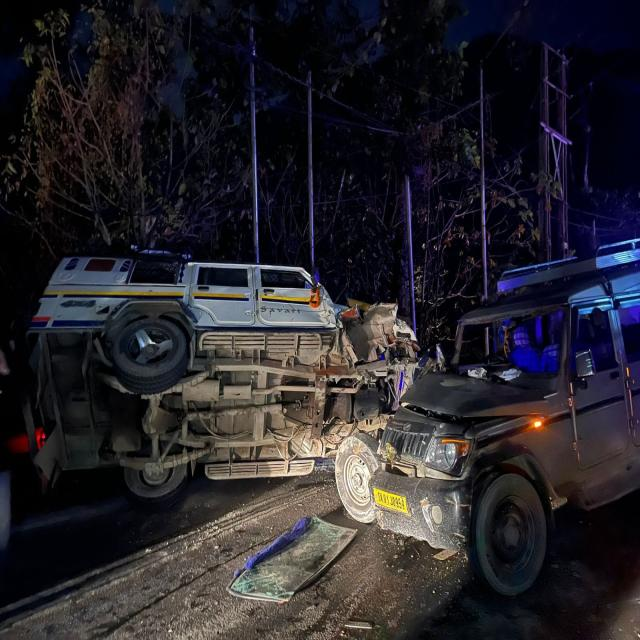accident: (22, 252, 419, 522), (370, 240, 640, 595)
